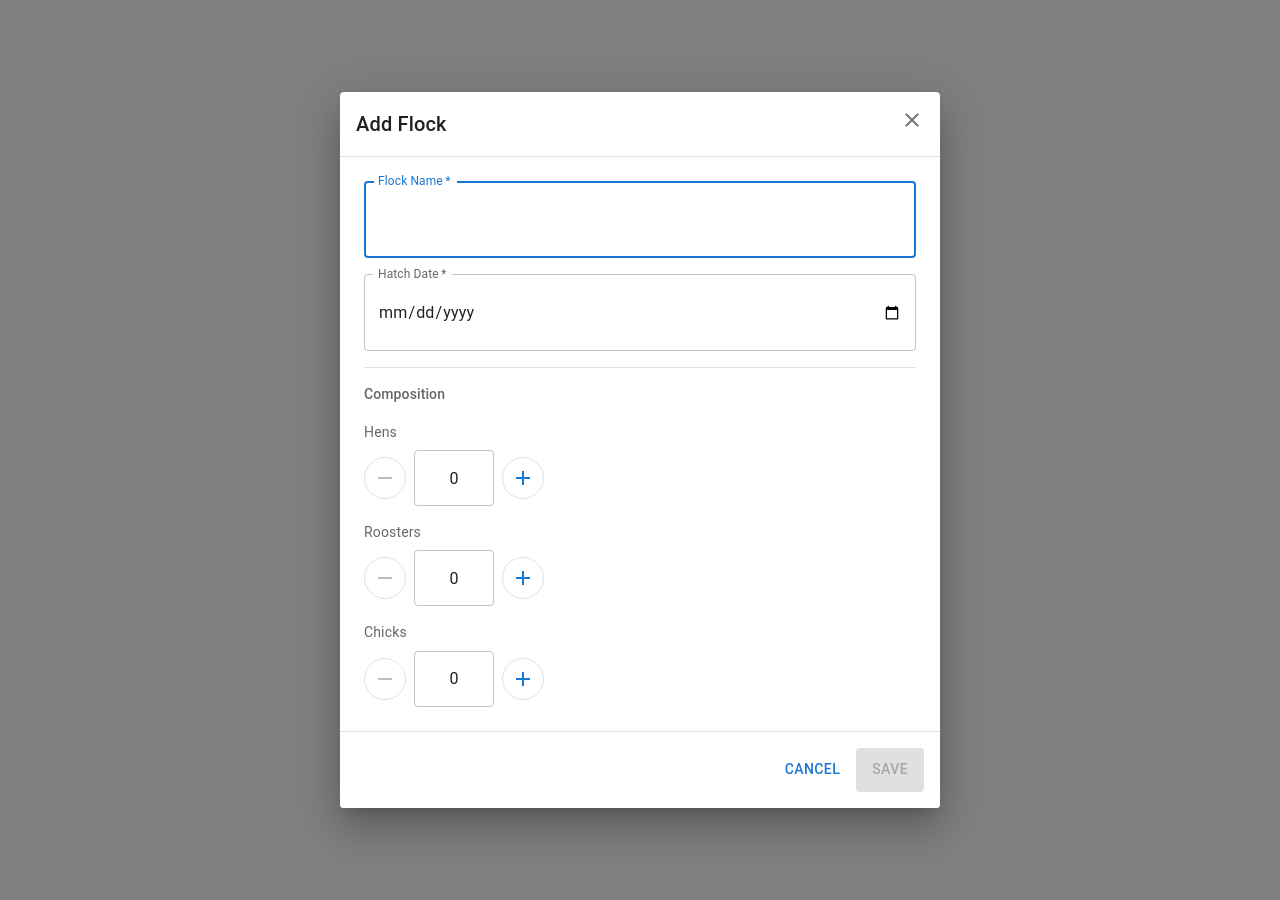
Test: CreateFlockModal › Increment/Decrement Buttons › should decrement hens count when decrement button is clicked
// First increment to 1
Click the button named "increase" at (523, 478), box [502,458,544,500]
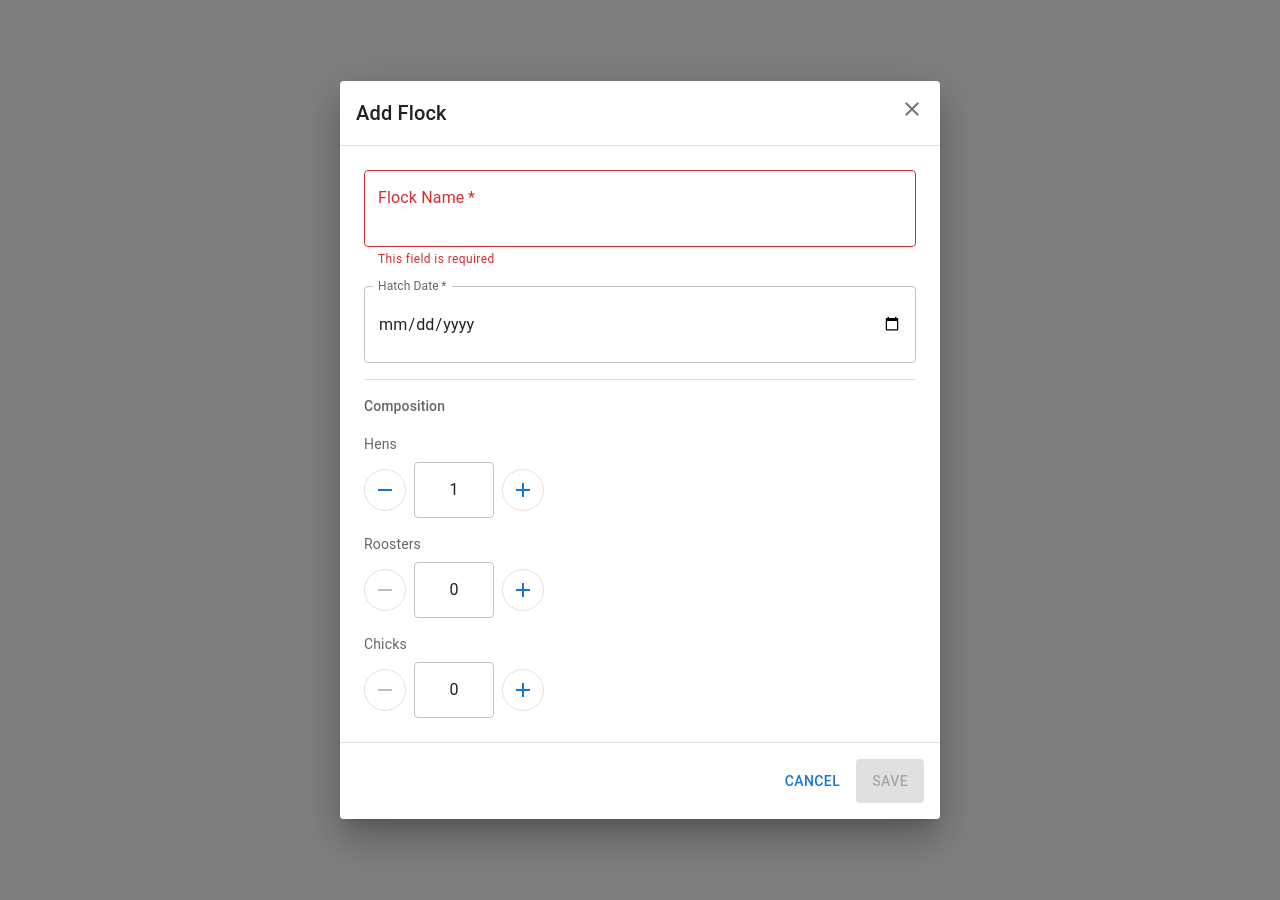
Expected: the number field named "Hens" holds "1", [414,462,494,518]
// Then decrement back to 0
Click the button named "decrease" at (385, 490), box [364,469,406,511]
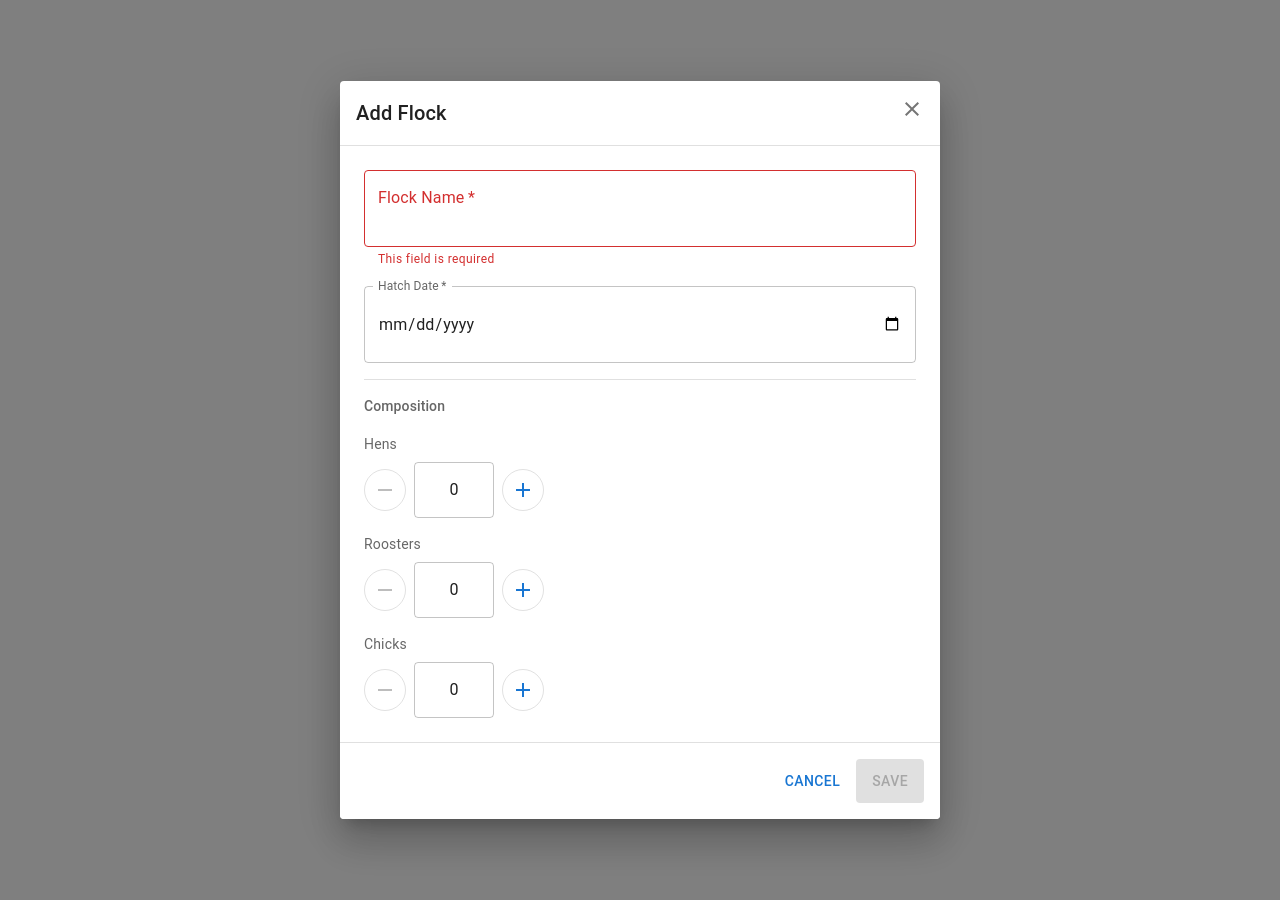
Expected: the number field named "Hens" holds "0", [414,462,494,518]
